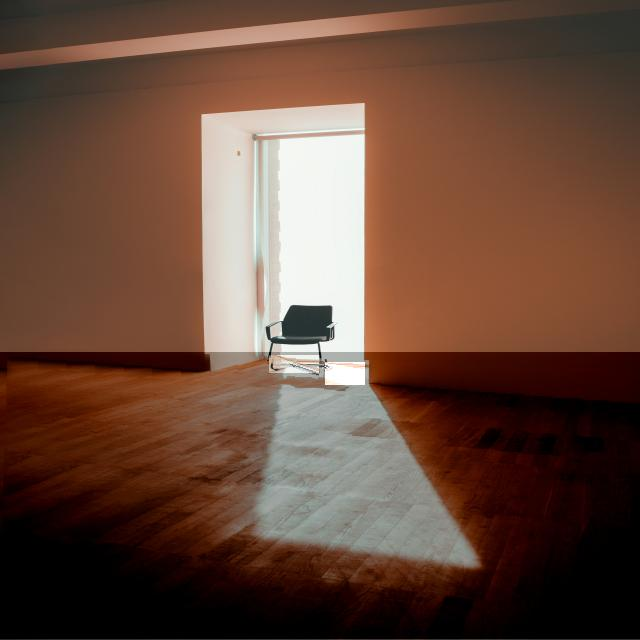floor: (0, 353, 640, 640), (325, 362, 365, 385), (269, 355, 319, 373), (323, 368, 326, 369)
